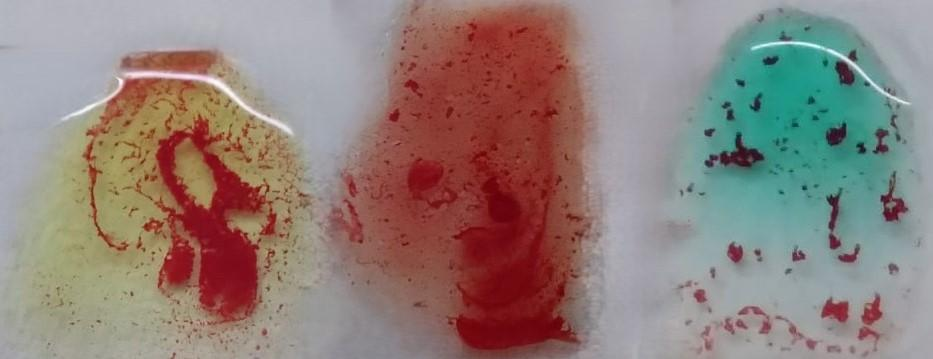A: (709, 7, 918, 359)
B: (76, 57, 302, 354)
D: (374, 7, 602, 359)
